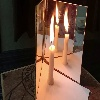fire: (50, 9, 54, 48)
